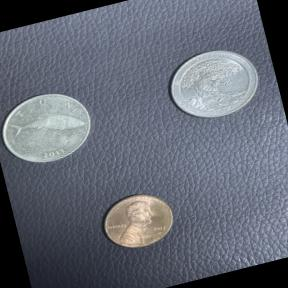Croatia-2Kune-B: (0, 80, 103, 177)
US-1cent-B: (89, 178, 187, 260)
US-25cent-B: (154, 36, 272, 134)
